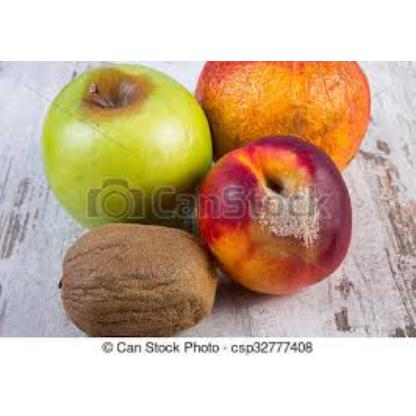apple: (43, 69, 207, 217), (203, 138, 365, 282), (191, 60, 370, 171), (61, 226, 217, 335)
